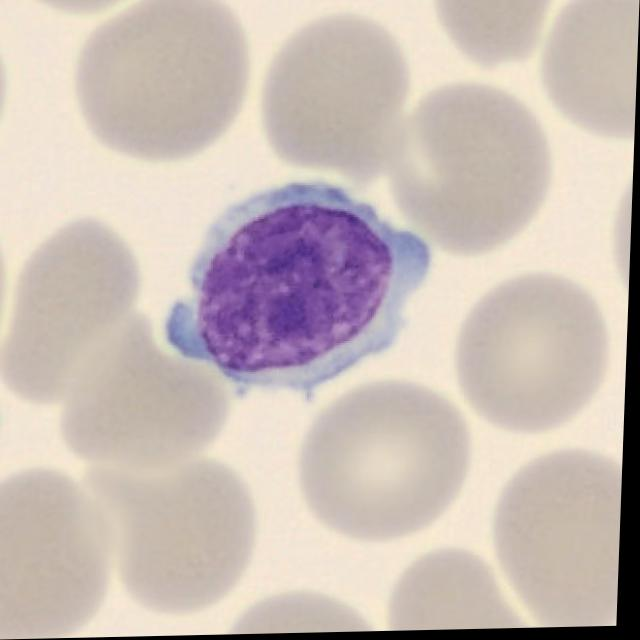Linfocito atipico: (169, 181, 433, 397)
